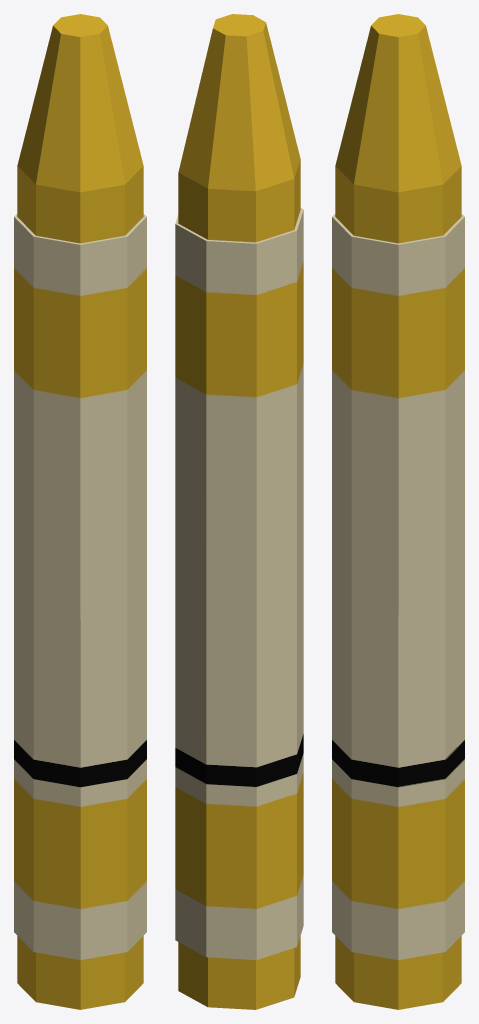
The model's file is CrayonYellow.fbx.
3 renders of one model, left to right at view 1: azimuth 90°, elevation 25°; view 2: azimuth 150°, elevation 25°; view 3: azimuth 270°, elevation 25°, orthographic.
Parts seen in each view (by area): view 1: Bake.002; view 2: Bake.002; view 3: Bake.002.
Boxes of the visible parts, x1,y1,x2,y2 form: Bake.002: (14, 14, 146, 1009); Bake.002: (175, 14, 303, 1009); Bake.002: (332, 14, 464, 1009).
Bounding box in the file's own units: 89.18 × 710 × 89.18.
